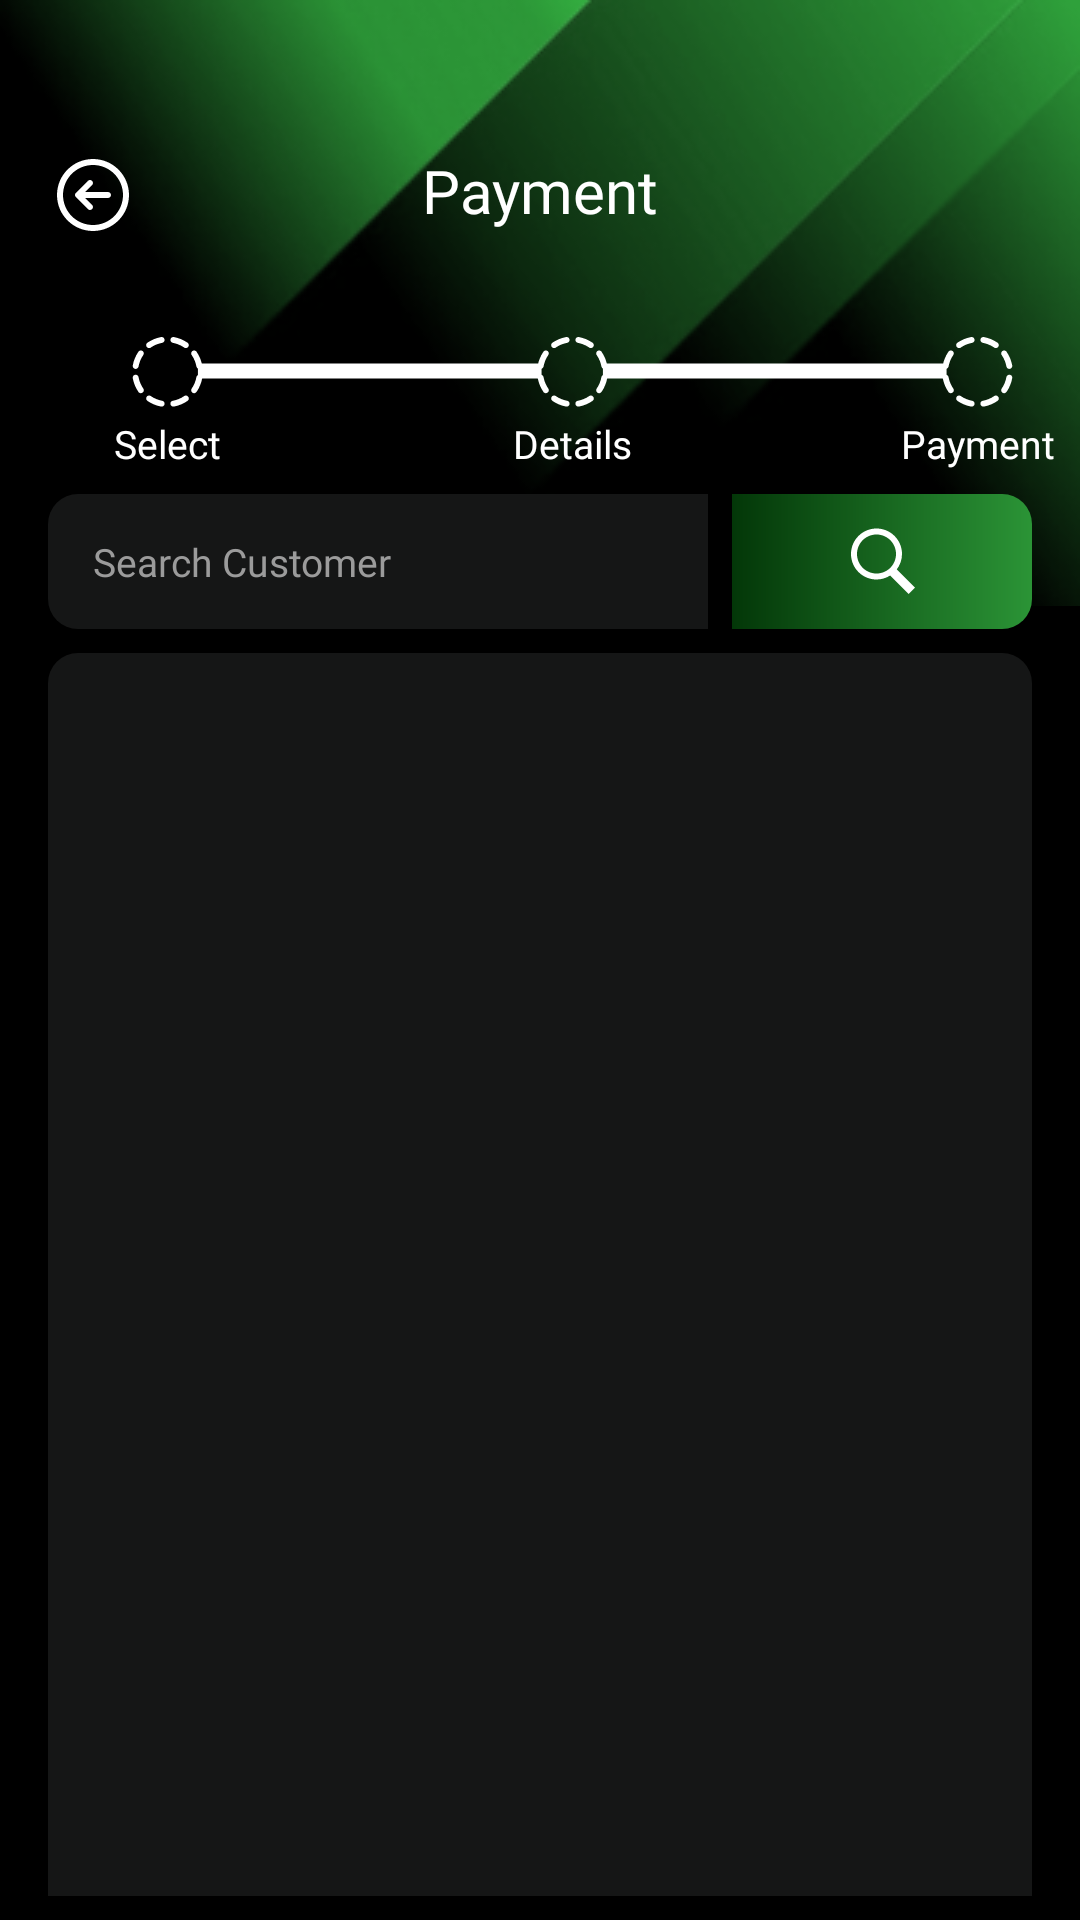

Named icons in this screenshot (1080px×1920px) and their centers, [x,y]:
backicon: [93,195]
line: [369,359], [774,372]
notcompleted: [977,372], [160,372], [572,377]
